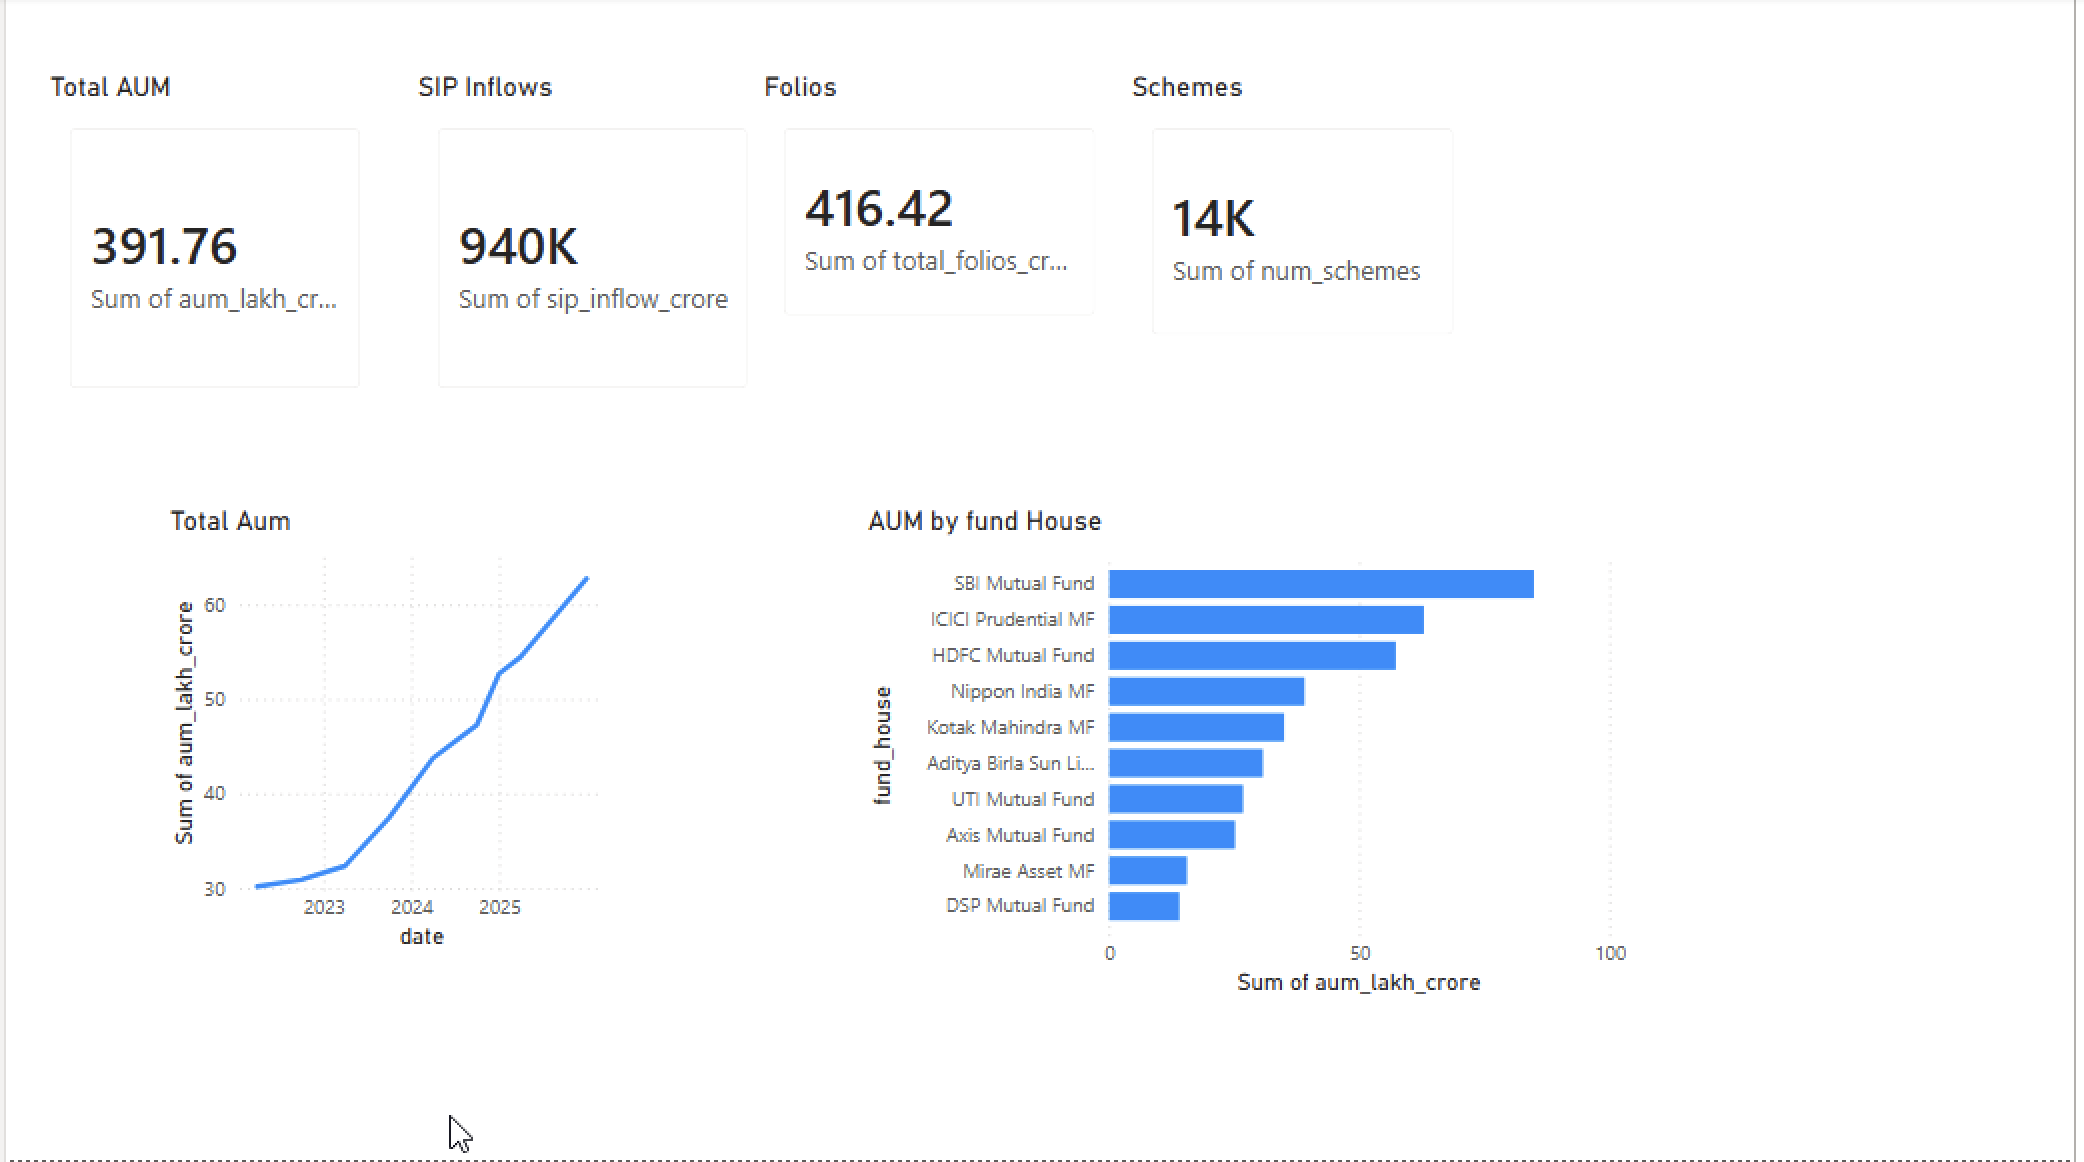

What the dashboard file says about the page in this screenshot:
{"tool":"powerbi","page":{"name":"Industry Overview","canvas":[1280,720],"ordinal":0},"visuals":[{"type":"cardVisual","title":"Total AUM","fields":{"Data":["Sum(03_aum_by_fund_house_cleaned.aum_lakh_crore)"]},"box":[22.2,45.8,214.3,214.3],"z":0},{"type":"cardVisual","title":"SIP Inflows ","fields":{"Data":["Sum(04_monthly_sip_inflows_cleaned.sip_inflow_crore)"]},"box":[249.8,45.8,226.1,214.3],"z":1},{"type":"cardVisual","title":"Folios","fields":{"Data":["Sum(06_industry_folio_count_cleaned.total_folios_crore)"]},"box":[464.1,45.8,227.6,170],"z":2},{"type":"cardVisual","title":"Schemes","fields":{"Data":["Sum(03_aum_by_fund_house_cleaned.num_schemes)"]},"box":[691.7,45.8,221.7,181.8],"z":3},{"type":"lineChart","title":"Total Aum ","fields":{"Y":["Sum(03_aum_by_fund_house_cleaned.aum_lakh_crore)"],"Category":["03_aum_by_fund_house_cleaned.date"]},"box":[96.1,314.8,280.8,280.8],"z":4},{"type":"barChart","title":"AUM by fund House ","fields":{"Category":["03_aum_by_fund_house_cleaned.fund_house"],"Y":["Sum(03_aum_by_fund_house_cleaned.aum_lakh_crore)"]},"box":[529.1,314.8,478.9,308.9],"z":5}]}

Visuals, with their boxes in screenshot pixels (x1, y1, x2, y2), scaled from the page's 1280x720 canvas onto the 2084x1162 screenshot:
"Total AUM" cardVisual: {"left": 36, "top": 74, "right": 385, "bottom": 420}
"SIP Inflows " cardVisual: {"left": 407, "top": 74, "right": 775, "bottom": 420}
"Folios" cardVisual: {"left": 756, "top": 74, "right": 1126, "bottom": 348}
"Schemes" cardVisual: {"left": 1126, "top": 74, "right": 1487, "bottom": 367}
"Total Aum " lineChart: {"left": 156, "top": 508, "right": 614, "bottom": 961}
"AUM by fund House " barChart: {"left": 861, "top": 508, "right": 1641, "bottom": 1007}
